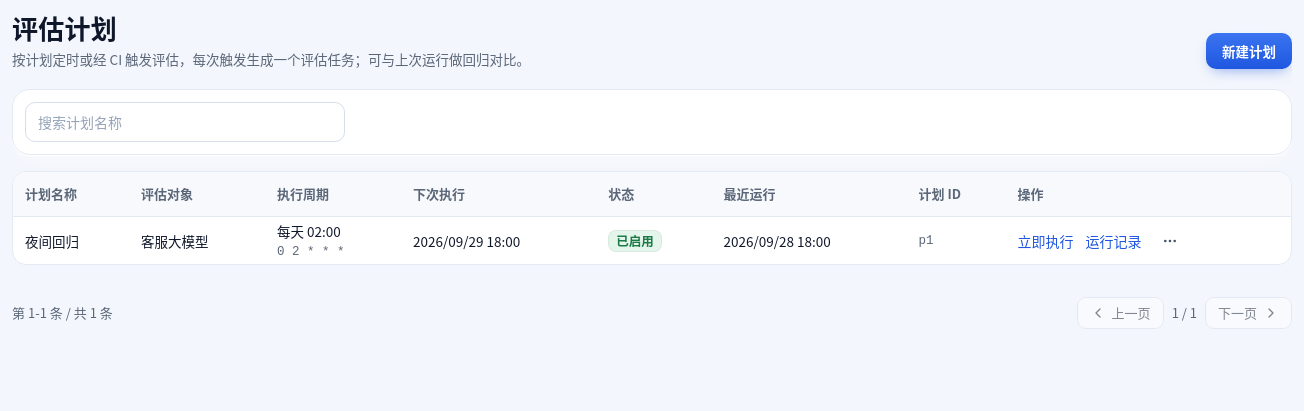
Test: EvalPlansPage 评估计划 › 列表展示对象、cron 中文说明、下次执行、启停与最近运行
This screenshot has width=1304, height=411.
Expected: the column heading "计划名称" is shown, [13,172,129,216]
Expected: the column heading "评估对象" is shown, [129,172,265,216]
Click the button named "更多": (1170, 241) [1154,225,1186,257]
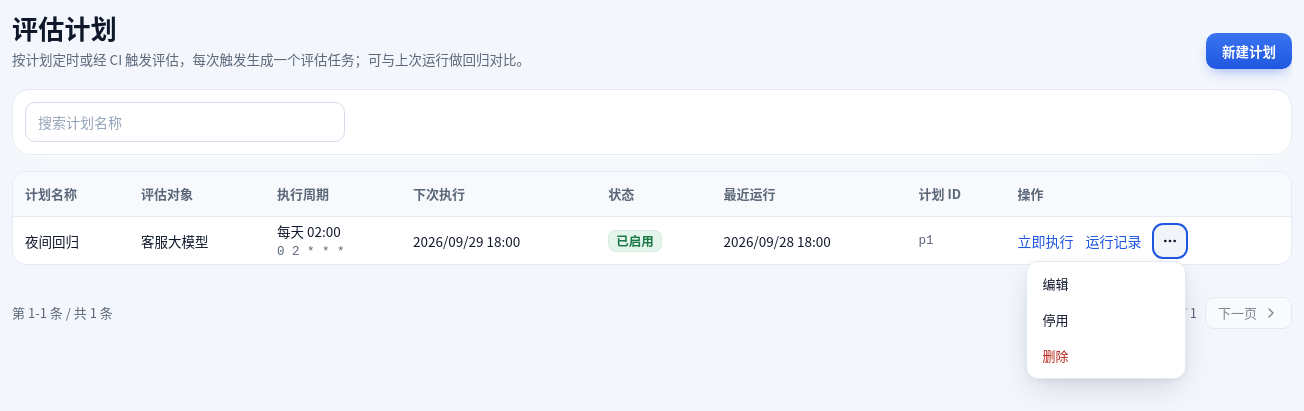
Now the menu item "编辑" is shown, box [1030,266,1180,302]
Now the menu item "停用" is shown, box [1030,302,1180,338]
Now the menu item "删除" is shown, box [1030,338,1180,374]
